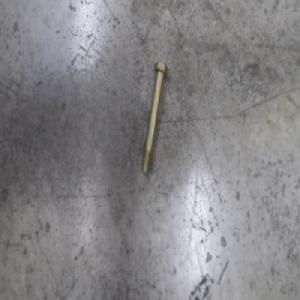Bolt: (140, 60, 168, 176)
